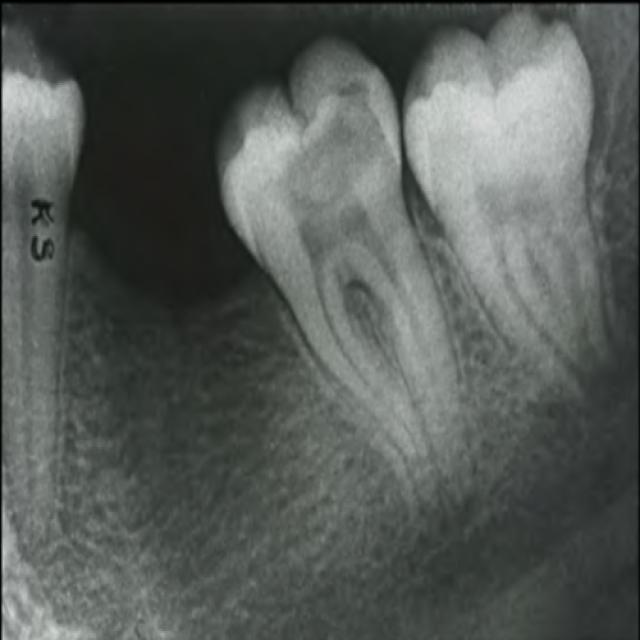Caries: (216, 31, 464, 554)
